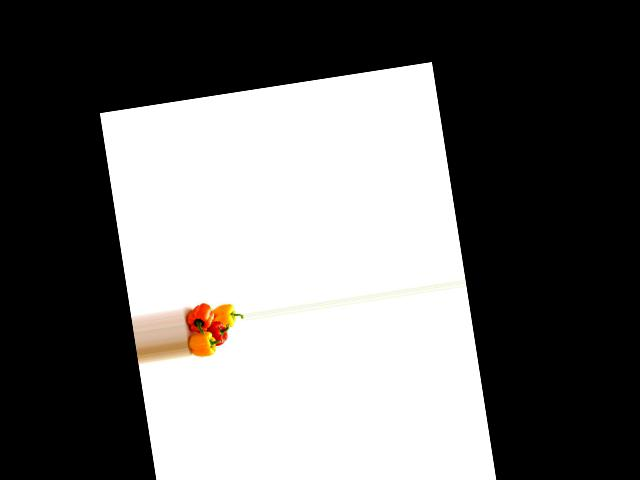bell_pepper: (185, 322, 222, 359)
